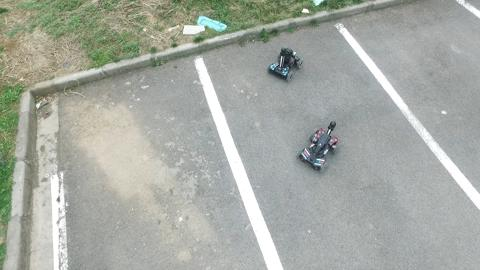chariot: (295, 118, 344, 175), (266, 45, 305, 81)
